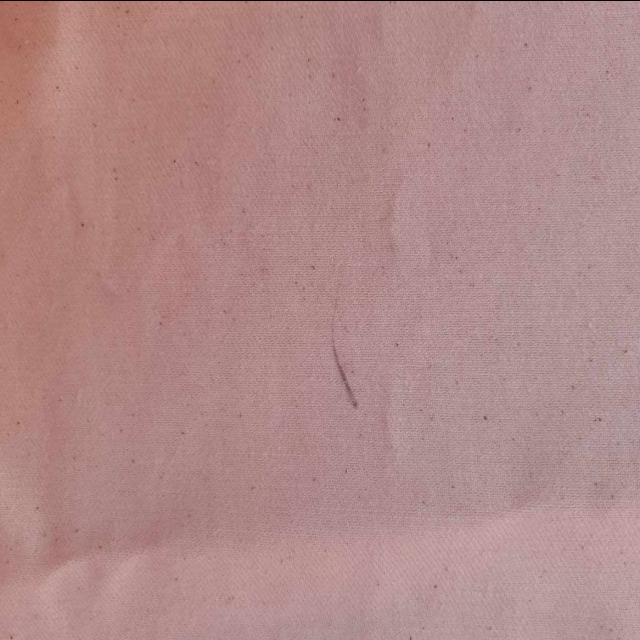taaaches: (327, 304, 369, 412)
